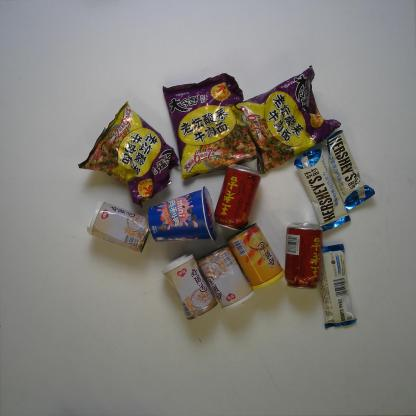Canned Food: (192, 242, 254, 310), (81, 199, 158, 253), (161, 254, 217, 324), (228, 225, 284, 291)
Chocolate: (290, 147, 351, 232), (325, 129, 374, 211), (314, 242, 360, 329)
Dessert: (148, 185, 219, 247)
Drink: (210, 160, 262, 232), (282, 222, 323, 288)
Instant Noodles: (237, 67, 341, 175), (78, 102, 181, 210), (161, 74, 259, 183)
